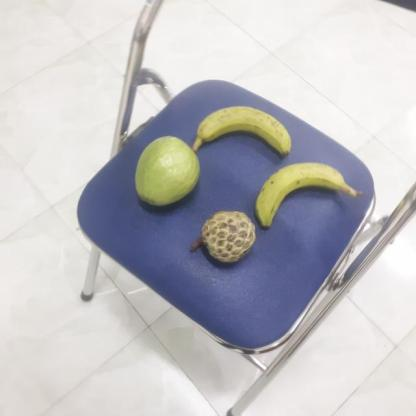annona: (190, 210, 255, 264)
banana: (256, 161, 344, 226), (190, 108, 290, 160)
guava: (132, 136, 202, 207)
